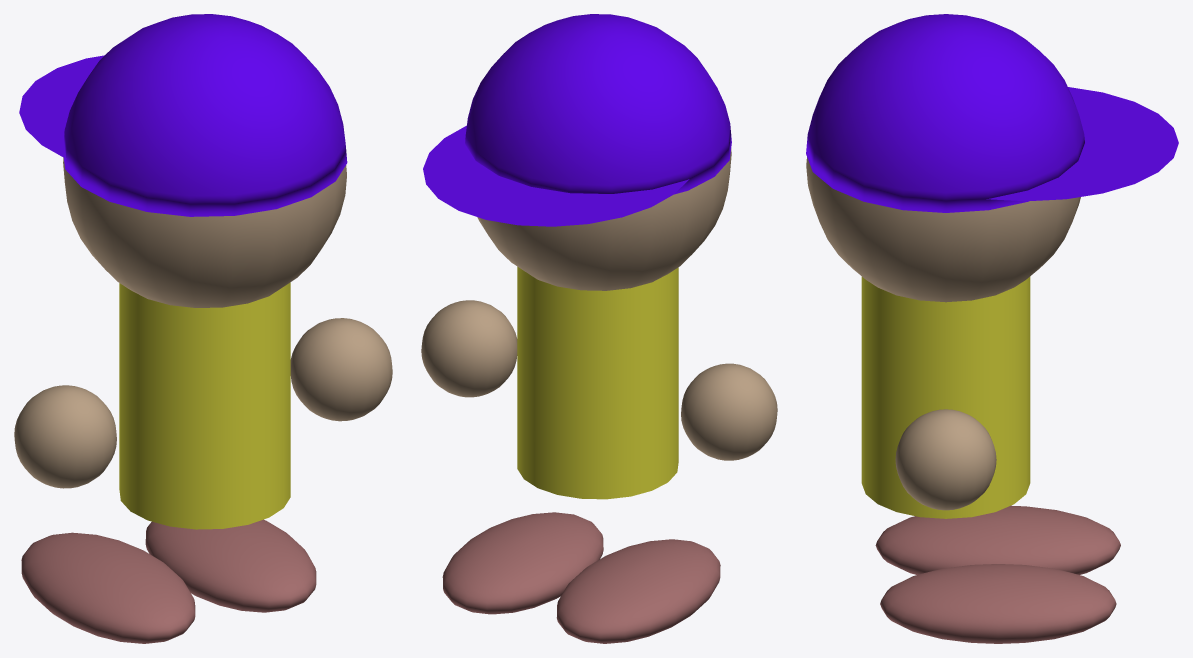
The model's file is playeraidoru.fbx.
3 renders of one model, left to right at view 1: azimuth 30°, elevation 25°; view 2: azimuth 150°, elevation 25°; view 3: azimuth 270°, elevation 25°, orthographic. The views are drawn at different scales.
Visible parts, largest first — view 1: pSphere7, pCylinder1, pSphere1, pSphere3, pSphere6, pSphere2, pSphere5, pDisc1; view 2: pSphere7, pCylinder1, pSphere1, pSphere3, pSphere6, pDisc1, pSphere5, pSphere2; view 3: pSphere7, pCylinder1, pSphere1, pSphere6, pSphere3, pDisc1, pSphere2.
Part boxes in pixels (x1,y1,x2,y2): pSphere7: (64, 14, 347, 216); pCylinder1: (119, 282, 290, 529); pSphere1: (63, 158, 346, 307); pSphere3: (21, 532, 195, 643); pSphere6: (145, 519, 316, 612); pSphere2: (290, 318, 392, 421); pSphere5: (14, 385, 116, 488); pDisc1: (19, 55, 104, 158); pSphere7: (465, 14, 731, 194); pCylinder1: (517, 266, 678, 499); pSphere1: (477, 149, 731, 290); pSphere3: (556, 539, 720, 643); pSphere6: (442, 512, 603, 614); pDisc1: (423, 125, 689, 226); pSphere5: (681, 363, 777, 460); pSphere2: (421, 300, 517, 397); pSphere7: (806, 14, 1084, 212); pCylinder1: (861, 276, 1030, 518); pSphere1: (806, 157, 1080, 302); pSphere6: (880, 564, 1116, 643); pSphere3: (875, 505, 1120, 574); pDisc1: (986, 87, 1178, 201); pSphere2: (895, 409, 996, 510).
Bounding box in the file's own units: 0.7075 × 1.1 × 0.6394.
